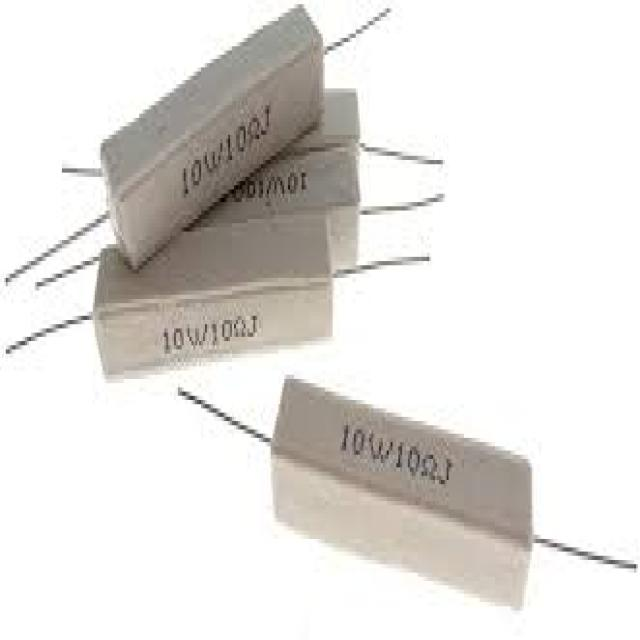Resistor: (269, 372, 532, 615), (64, 26, 346, 169), (109, 4, 313, 200), (98, 264, 328, 379), (102, 200, 334, 308)
